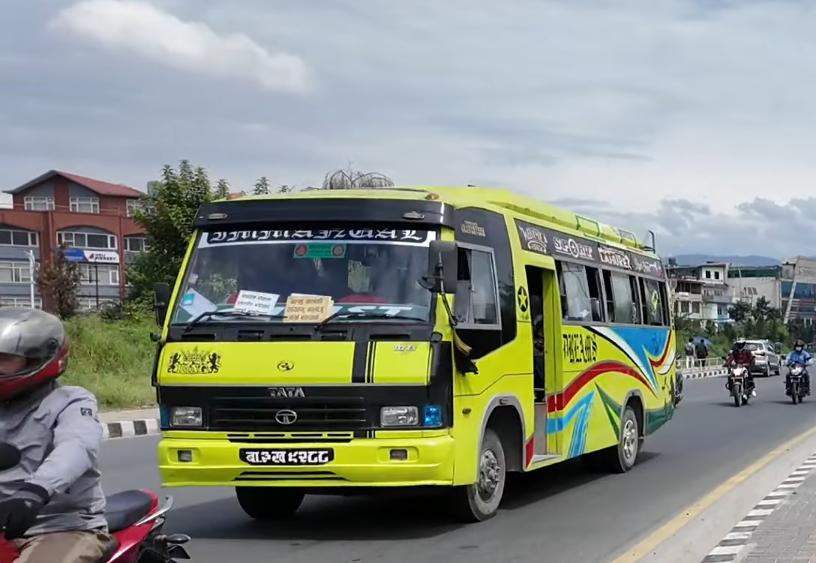bike: (719, 352, 760, 410), (784, 356, 813, 405)
bus: (150, 167, 686, 519)
